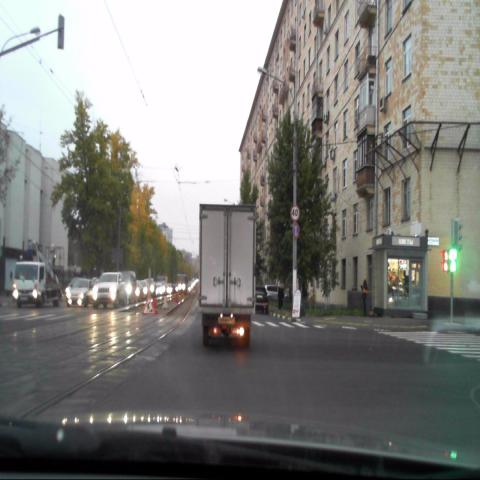1_25: (144, 294, 156, 315)
3_24: (290, 204, 300, 221)
3_30: (292, 222, 299, 237)
